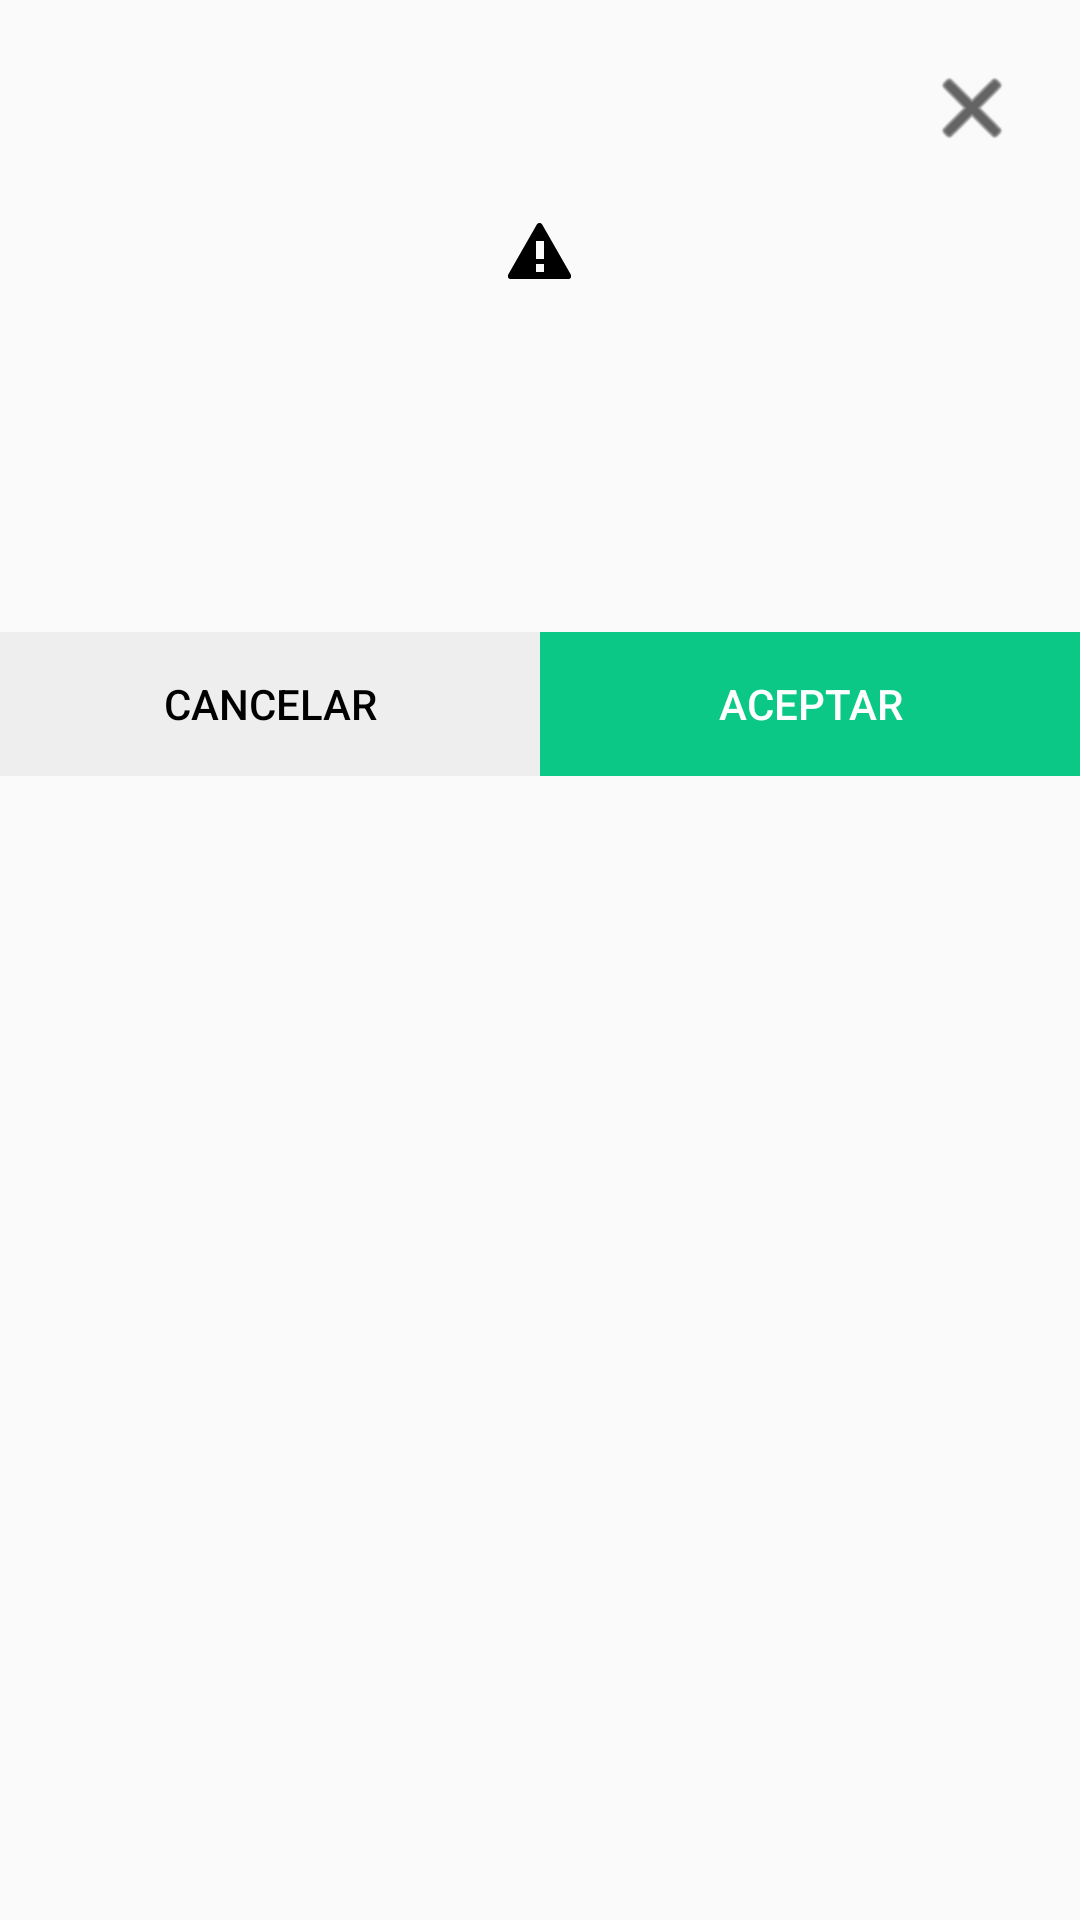

Point at icon controls on the screen. Image size 1080 × 1920, points as point (x, y).
close clear cancel: point (972, 108)
warning: point (539, 251)
